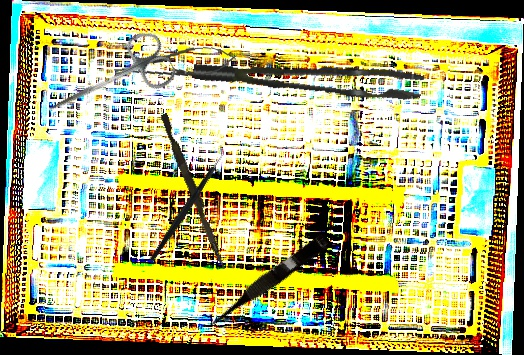Chopper: (119, 143, 254, 264)
Iris Scissors: (36, 25, 180, 139)
Micro Scissor: (200, 229, 333, 333)
Needle Holder: (112, 41, 238, 87)
Pusher: (156, 112, 232, 271)
Tissue Forceps: (191, 32, 425, 122)
